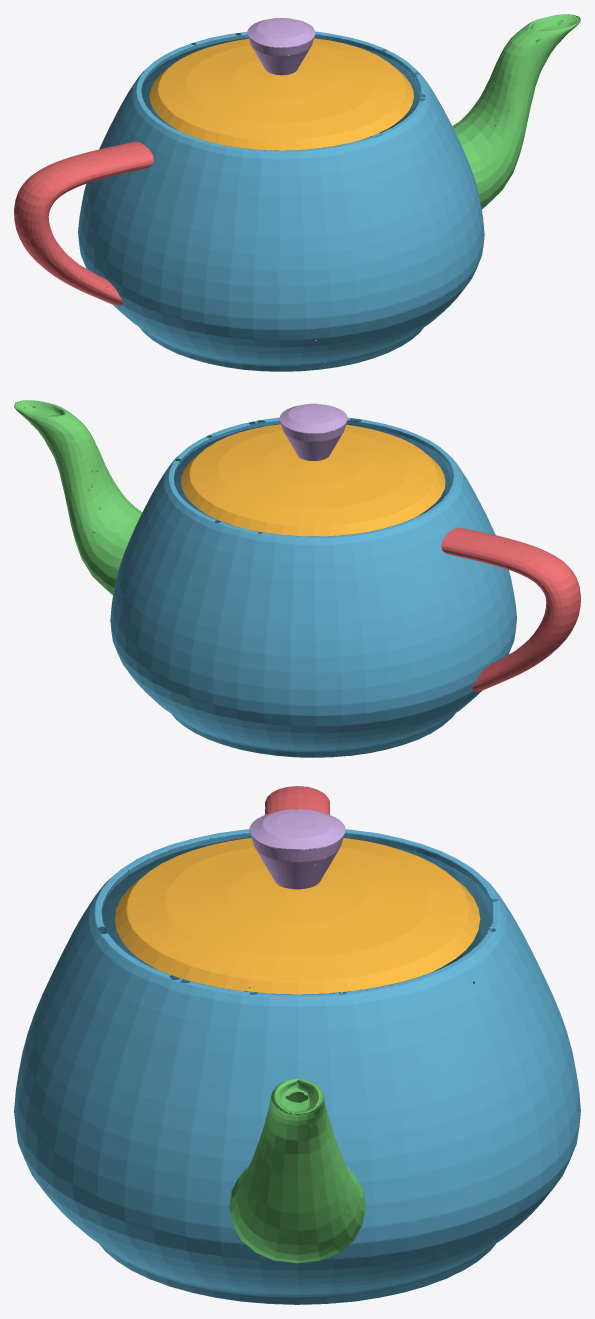
File: ceramic-teapot.glb
The picture shows the model from 3 angles, top to bottom: view 1: azimuth 30°, elevation 25°; view 2: azimuth 150°, elevation 25°; view 3: azimuth 270°, elevation 25°; orthographic projection. The views are drawn at different scales.
Parts seen in each view (by area): view 1: Part 01, Part 02, Part 03, Part 04, Part 05; view 2: Part 01, Part 02, Part 03, Part 04, Part 05; view 3: Part 01, Part 02, Part 03, Part 05, Part 04.
Boxes of the visible parts, left/top/right/bottom form: Part 01: left=78, top=31, right=484, bottom=371; Part 02: left=149, top=38, right=413, bottom=150; Part 03: left=452, top=14, right=580, bottom=208; Part 04: left=14, top=141, right=153, bottom=305; Part 05: left=247, top=18, right=315, bottom=75; Part 01: left=110, top=417, right=516, bottom=757; Part 02: left=181, top=424, right=445, bottom=536; Part 03: left=14, top=400, right=142, bottom=595; Part 04: left=441, top=527, right=580, bottom=691; Part 05: left=279, top=403, right=347, bottom=460; Part 01: left=14, top=829, right=580, bottom=1304; Part 02: left=115, top=838, right=480, bottom=994; Part 03: left=229, top=1078, right=365, bottom=1263; Part 05: left=249, top=809, right=345, bottom=889; Part 04: left=265, top=786, right=329, bottom=814.
Size of the model in its own units: 0.9944 by 0.492 by 0.6213.
